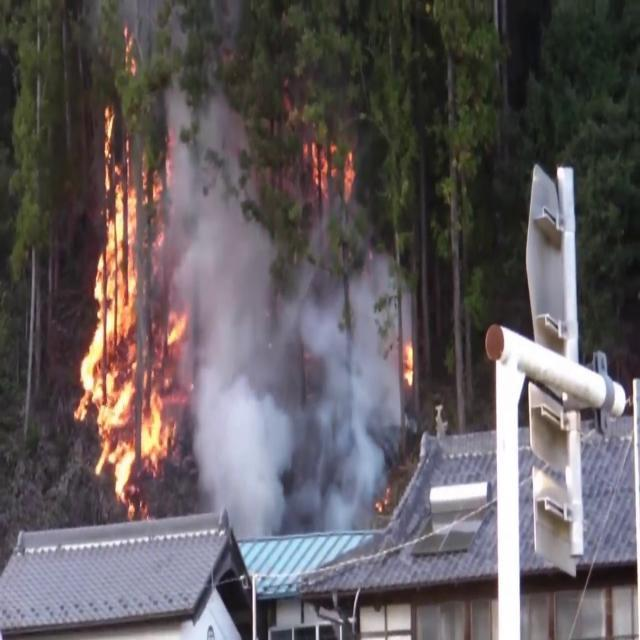Fire: (70, 100, 184, 500)
Smoke: (134, 123, 410, 569)
